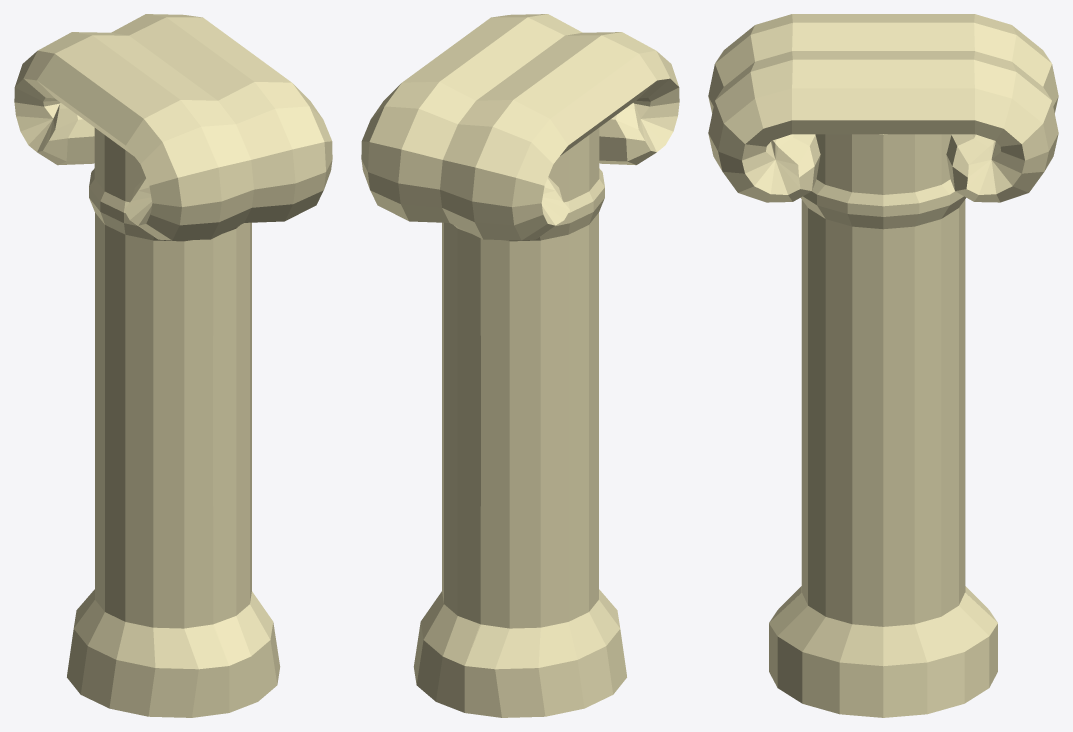
Rendered from Column.fbx.
3 renders of one model, left to right at view 1: azimuth 30°, elevation 25°; view 2: azimuth 150°, elevation 25°; view 3: azimuth 270°, elevation 25°, orthographic. The views are drawn at different scales.
Parts seen in each view (by area): view 1: Cylinder; view 2: Cylinder; view 3: Cylinder.
Part boxes in pixels (bbox=[...]): Cylinder: bbox=[14, 14, 332, 717]; Cylinder: bbox=[361, 14, 679, 717]; Cylinder: bbox=[708, 14, 1058, 717].
Bounding box in the file's own units: 489 × 1544 × 778.
